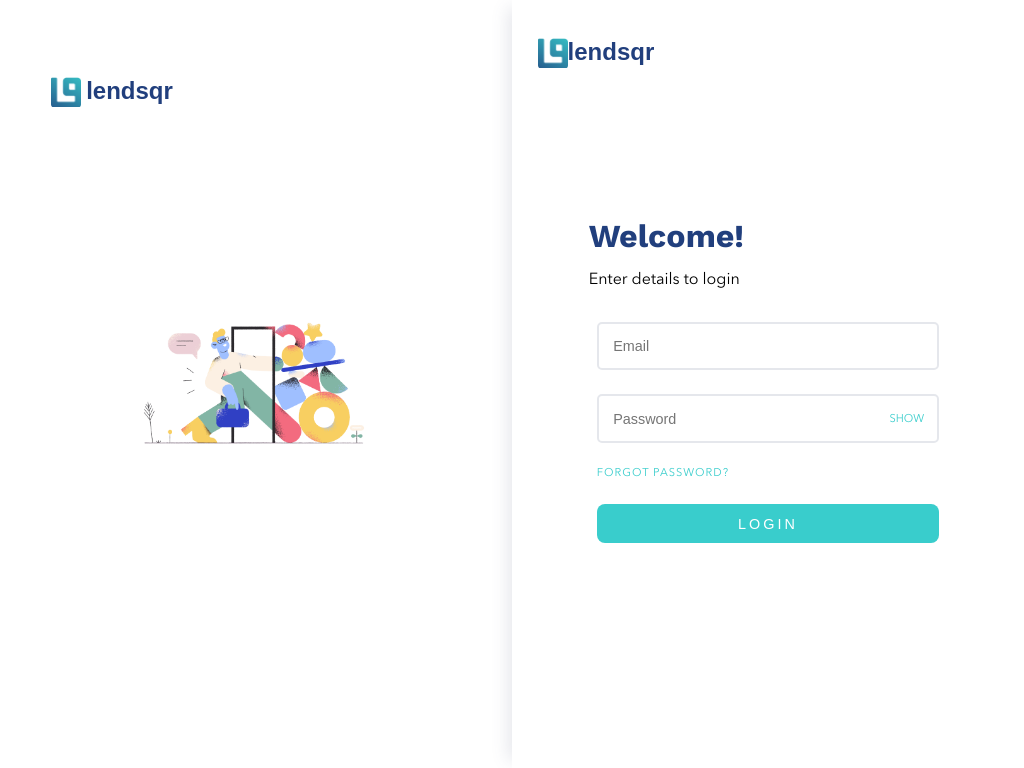
Test case: Login Component › should show required error for empty email
The width and height of the screenshot is (1024, 768).
Click the button "Login": {"x": 768, "y": 524} [597, 504, 939, 543]
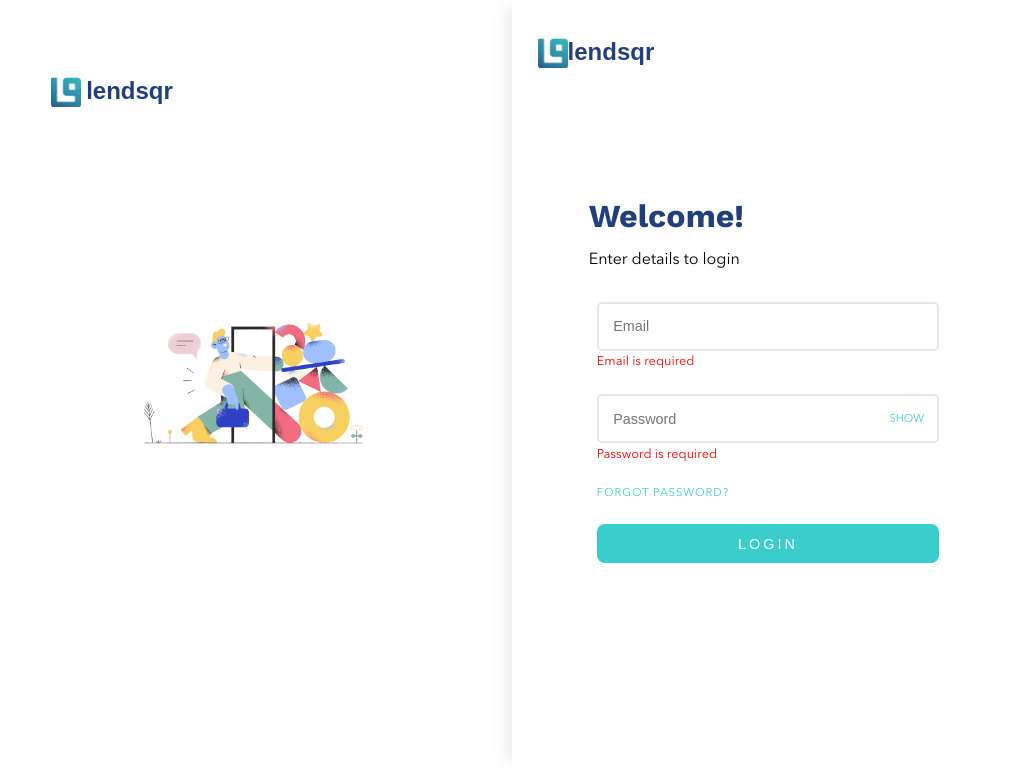
Result: the text "Email is required" is shown at [597, 356, 694, 368]
